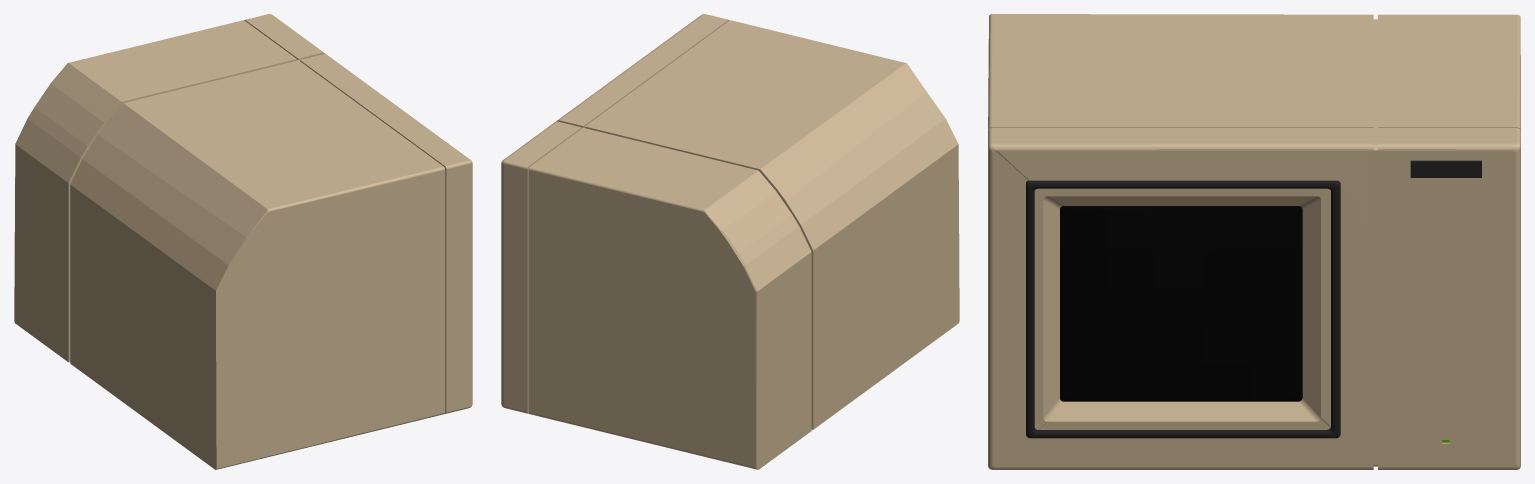
The model's file is computer.fbx.
3 renders of one model, left to right at view 1: azimuth 30°, elevation 25°; view 2: azimuth 150°, elevation 25°; view 3: azimuth 270°, elevation 25°, orthographic. The views are drawn at different scales.
Parts seen in each view (by area): view 1: Cube; view 2: Cube; view 3: Cube.
Part boxes in pixels (box(x1,y1,x2,y2)): Cube: box(14, 14, 472, 469); Cube: box(501, 14, 959, 469); Cube: box(988, 14, 1520, 469).
Bounding box in the file's own units: 468 × 425 × 629.
